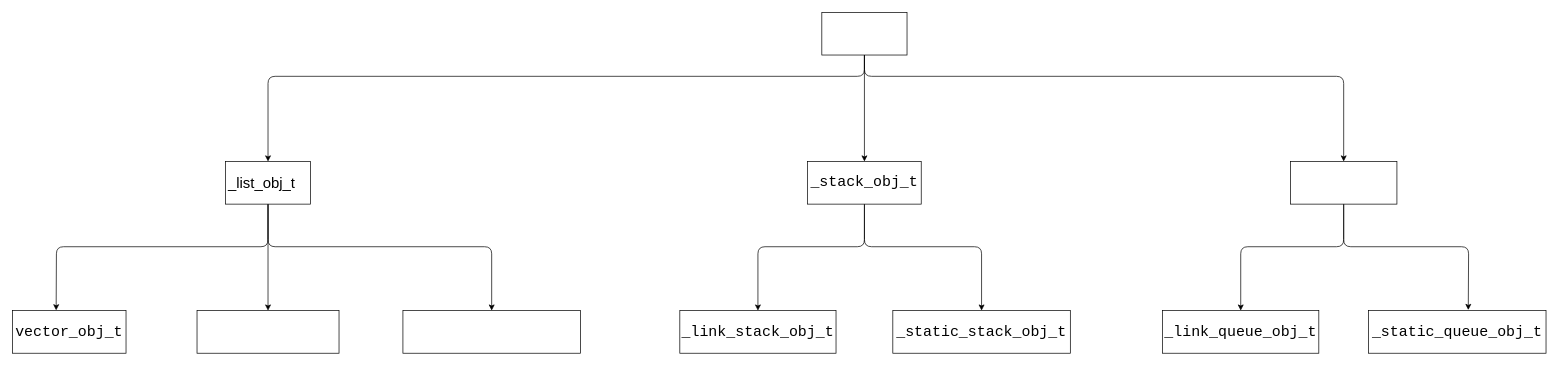
Image size: 1558x366. Some labels were removed from this diagram. Here are the shapes that lost their labels. From the top down, the centre of each, then its label:
the point at 864,33: _obj_t
the point at 1343,182: _queue_obj_t
the point at 267,331: _link_list_obj_t
the point at 491,331: dual_link_list_obj_t
